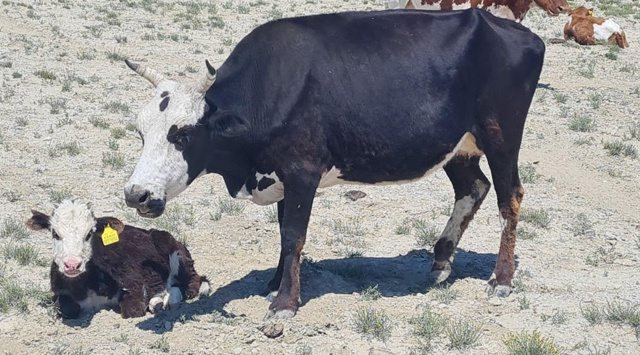cow: (117, 35, 558, 319)
